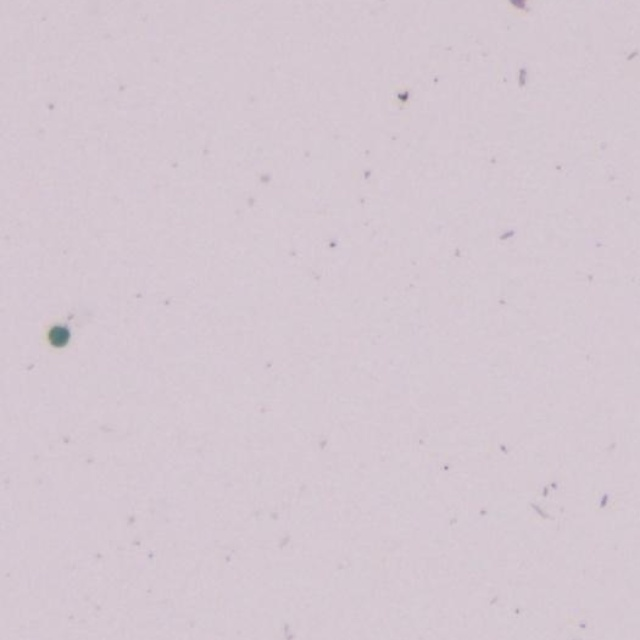non_viable: (50, 325, 68, 345)
